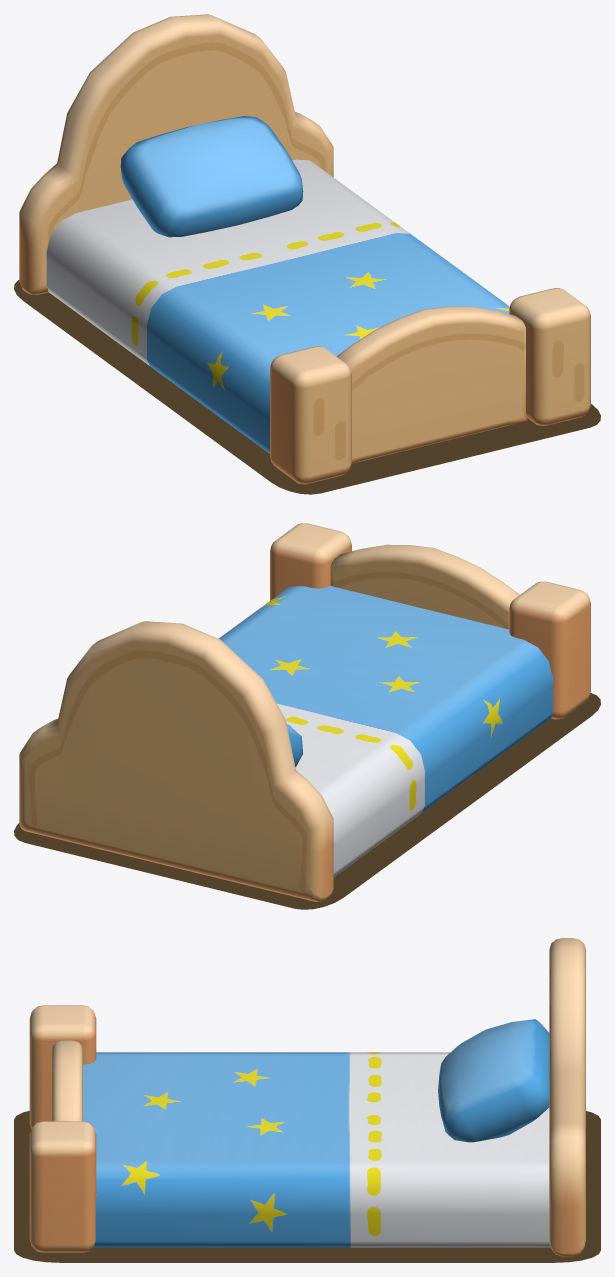
Rendered from Bed01.fbx.
The picture shows the model from 3 angles, top to bottom: view 1: azimuth 30°, elevation 25°; view 2: azimuth 150°, elevation 25°; view 3: azimuth 270°, elevation 25°; orthographic projection.
Parts seen in each view (by area): view 1: Bed01; view 2: Bed01; view 3: Bed01.
Part boxes in pixels (x1,y1,x2,y2): Bed01: [14, 14, 600, 494]; Bed01: [14, 523, 600, 909]; Bed01: [14, 938, 600, 1262].
Bounding box in the file's own units: 211 × 149 × 336.
